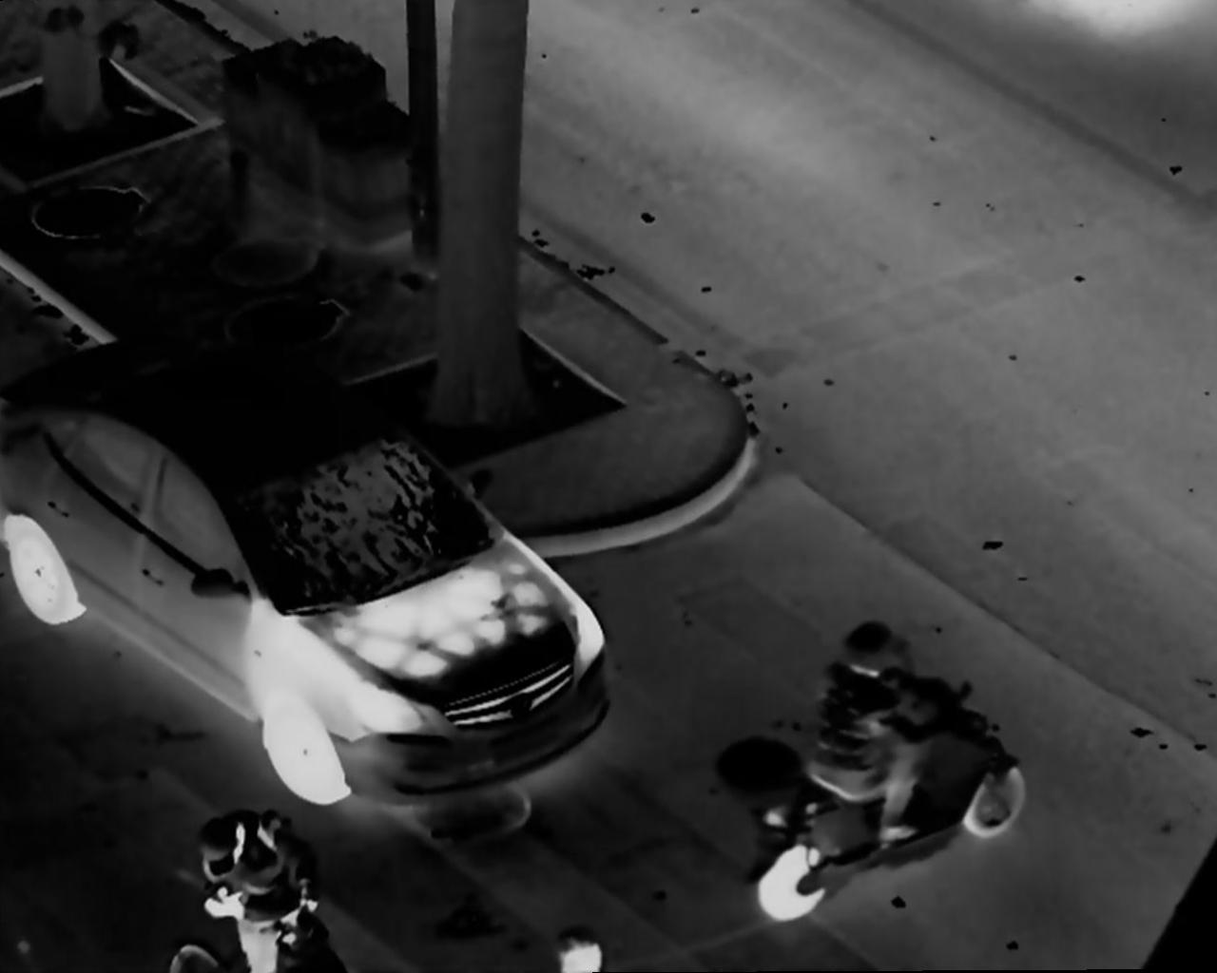person: (813, 618, 955, 874), (161, 799, 316, 973)
